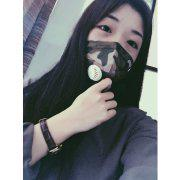OK: (82, 17, 149, 84)
